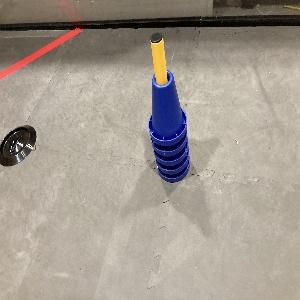Blue_5: (147, 69, 190, 183)
